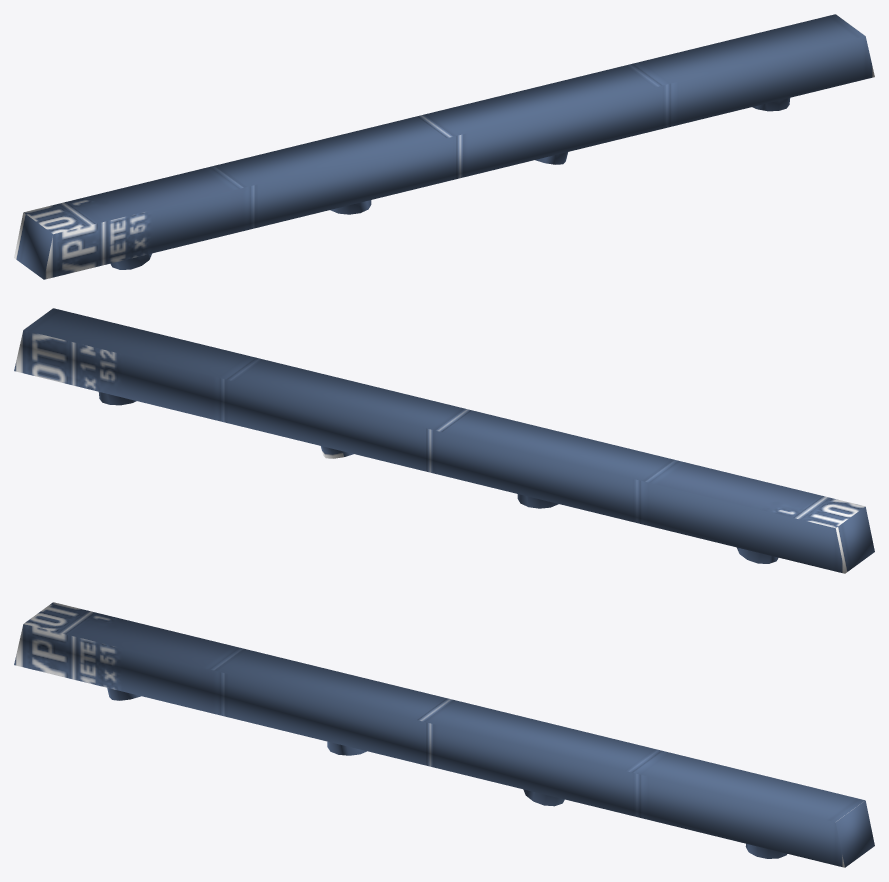
Rendered from SM_CellingLamp.glb.
3 views of the same model, one above another, from view 1: azimuth 30°, elevation 25°; view 2: azimuth 150°, elevation 25°; view 3: azimuth 330°, elevation 25° (orthographic).
Visible parts, largest first — view 1: SM_CellingLamp; view 2: SM_CellingLamp; view 3: SM_CellingLamp.
Part boxes in pixels (x1=…): SM_CellingLamp: x1=14, y1=14, x2=874, y2=279; SM_CellingLamp: x1=14, y1=308, x2=874, y2=573; SM_CellingLamp: x1=14, y1=602, x2=874, y2=867.
Size of the model in its own units: 2 by 0.1438 by 0.1248.
Materials: 1 (1 with a texture image).
